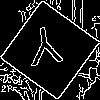Y: (25, 25, 66, 76)
